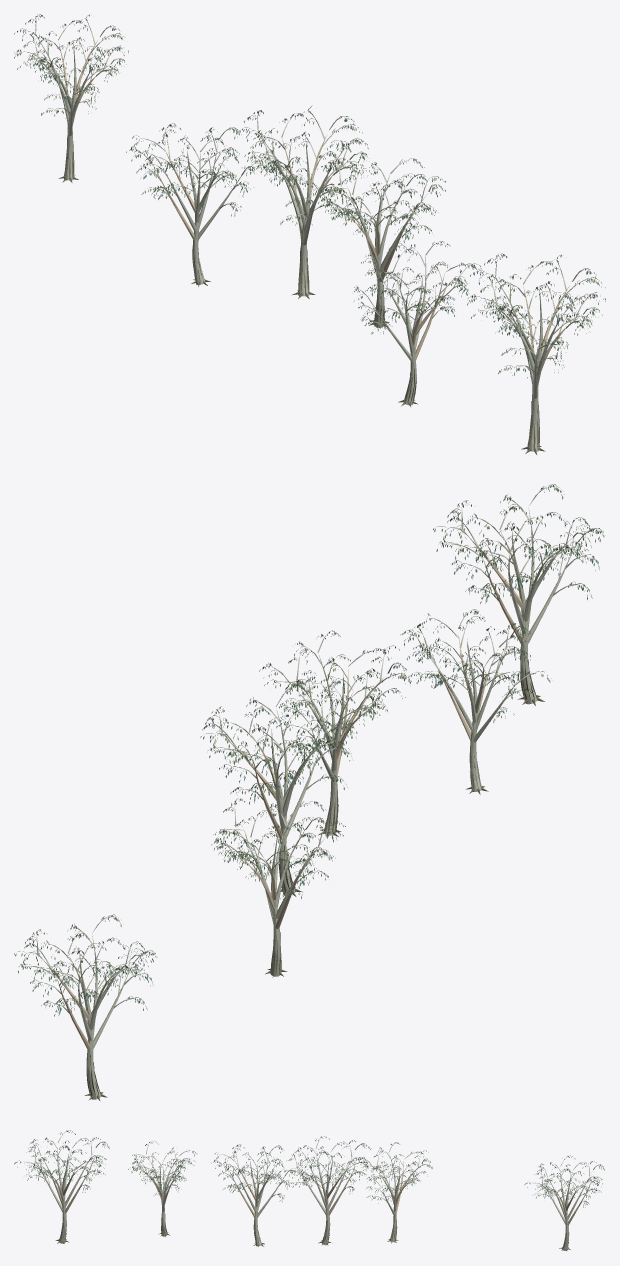
File: ecology-eucalyptus-mid-11.glb
The picture shows the model from 3 angles, top to bottom: view 1: azimuth 30°, elevation 25°; view 2: azimuth 150°, elevation 25°; view 3: azimuth 270°, elevation 25°; orthographic projection. The views are drawn at different scales.
Visible parts, largest first — view 1: eucalyptus-mid-107, eucalyptus-mid-104, eucalyptus-mid-105, eucalyptus-mid-103, eucalyptus-mid-106, eucalyptus-mid-102; view 2: eucalyptus-mid-107, eucalyptus-mid-104, eucalyptus-mid-105, eucalyptus-mid-102, eucalyptus-mid-106, eucalyptus-mid-103; view 3: eucalyptus-mid-107, eucalyptus-mid-104, eucalyptus-mid-105, eucalyptus-mid-102, eucalyptus-mid-103, eucalyptus-mid-106.
Boxes of the visible parts, x1=… form: eucalyptus-mid-107: x1=467, y1=253, x2=605, y2=454; eucalyptus-mid-104: x1=236, y1=105, x2=369, y2=298; eucalyptus-mid-105: x1=318, y1=157, x2=445, y2=328; eucalyptus-mid-103: x1=126, y1=123, x2=267, y2=286; eucalyptus-mid-106: x1=354, y1=241, x2=481, y2=406; eucalyptus-mid-102: x1=14, y1=14, x2=128, y2=182; eucalyptus-mid-107: x1=433, y1=484, x2=604, y2=705; eucalyptus-mid-104: x1=200, y1=683, x2=357, y2=896; eucalyptus-mid-105: x1=259, y1=630, x2=411, y2=837; eucalyptus-mid-102: x1=14, y1=914, x2=157, y2=1100; eucalyptus-mid-106: x1=400, y1=609, x2=551, y2=794; eucalyptus-mid-103: x1=211, y1=798, x2=345, y2=977; eucalyptus-mid-107: x1=14, y1=1130, x2=109, y2=1243; eucalyptus-mid-104: x1=278, y1=1136, x2=371, y2=1245; eucalyptus-mid-105: x1=211, y1=1144, x2=300, y2=1246; eucalyptus-mid-102: x1=524, y1=1155, x2=604, y2=1250; eucalyptus-mid-103: x1=360, y1=1142, x2=432, y2=1243; eucalyptus-mid-106: x1=128, y1=1141, x2=196, y2=1236.
Bounding box in the file's own units: 14.68 × 16.01 × 70.06.
